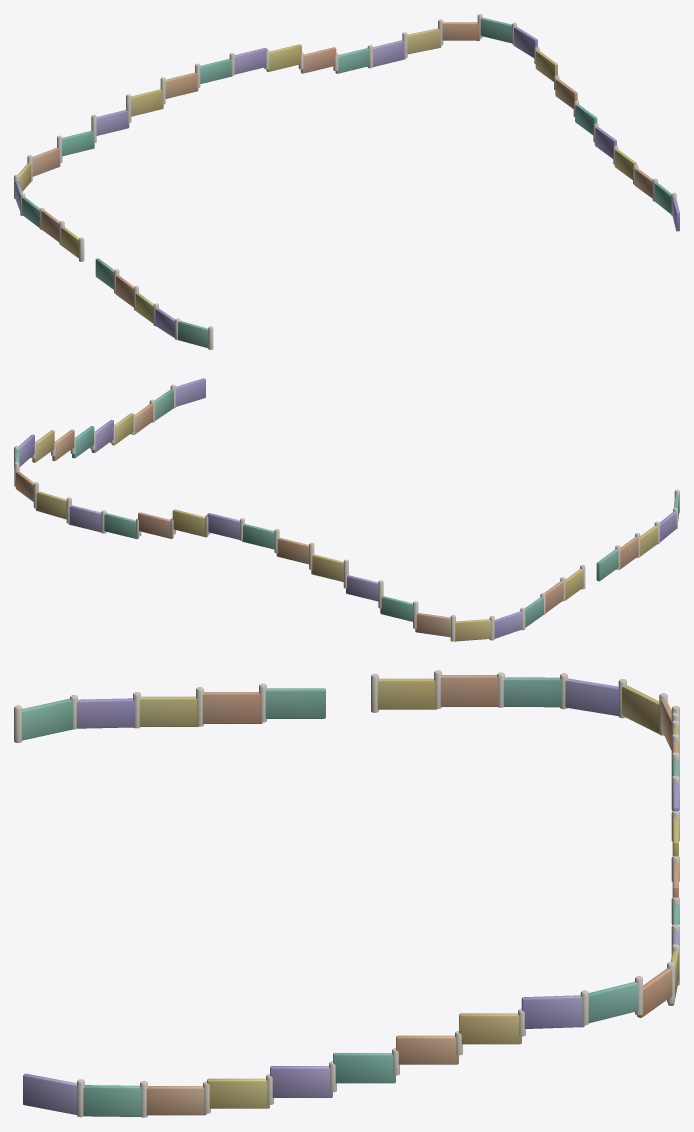
Rendered from W2_Border.fbx.
The picture shows the model from 3 angles, top to bottom: view 1: azimuth 30°, elevation 25°; view 2: azimuth 150°, elevation 25°; view 3: azimuth 270°, elevation 25°; orthographic projection. The views are drawn at different scales.
Visible parts, largest first — view 1: W2_Border; view 2: W2_Border; view 3: W2_Border.
Part boxes in pixels (x1=…): W2_Border: x1=14, y1=14, x2=679, y2=349; W2_Border: x1=14, y1=378, x2=679, y2=641; W2_Border: x1=14, y1=670, x2=679, y2=1117.
Bounding box in the file's own units: 6.66 × 1.12 × 4.76.
